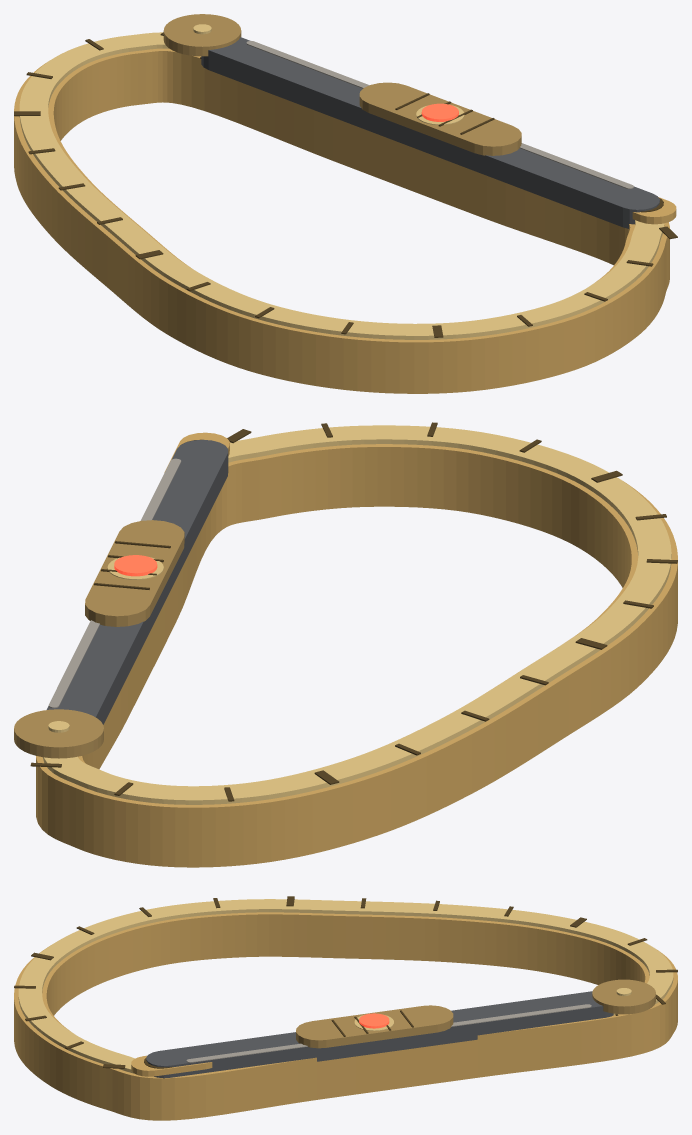
Rendered from safety_first.glb.
3 renders of one model, top to bottom at view 1: azimuth 30°, elevation 25°; view 2: azimuth 150°, elevation 25°; view 3: azimuth 270°, elevation 25°, orthographic. The views are drawn at different scales.
Parts seen in each view (by area): view 1: SF_Body, SF_Ridge, SF_Gate, SF_Sleeve, SF_Hinge, SF_Ticks, SF_GateEdge, SF_NoseBlock, SF_LockDot; view 2: SF_Body, SF_Ridge, SF_Gate, SF_Sleeve, SF_Hinge, SF_Ticks, SF_GateEdge, SF_LockDot; view 3: SF_Body, SF_Ridge, SF_Gate, SF_Sleeve, SF_Hinge, SF_GateEdge, SF_Ticks, SF_NoseBlock, SF_LockDot.
Boxes of the visible parts, x1=… form: SF_Body: x1=14, y1=48, x2=669, y2=393; SF_Ridge: x1=19, y1=32, x2=664, y2=339; SF_Gate: x1=201, y1=37, x2=659, y2=228; SF_Sleeve: x1=359, y1=82, x2=521, y2=155; SF_Hinge: x1=163, y1=14, x2=241, y2=56; SF_Ticks: x1=14, y1=32, x2=677, y2=337; SF_GateEdge: x1=246, y1=41, x2=633, y2=188; SF_NoseBlock: x1=632, y1=197, x2=676, y2=224; SF_LockDot: x1=421, y1=103, x2=458, y2=121; SF_Body: x1=36, y1=444, x2=677, y2=867; SF_Ridge: x1=42, y1=425, x2=671, y2=804; SF_Gate: x1=46, y1=439, x2=228, y2=724; SF_Sleeve: x1=85, y1=520, x2=184, y2=626; SF_Hinge: x1=14, y1=709, x2=103, y2=758; SF_Ticks: x1=30, y1=422, x2=677, y2=801; SF_GateEdge: x1=48, y1=458, x2=181, y2=708; SF_LockDot: x1=114, y1=555, x2=157, y2=576; SF_Body: x1=14, y1=912, x2=677, y2=1120; SF_Ridge: x1=18, y1=899, x2=673, y2=1073; SF_Gate: x1=146, y1=991, x2=613, y2=1078; SF_Sleeve: x1=296, y1=1005, x2=453, y2=1048; SF_Hinge: x1=592, y1=979, x2=655, y2=1014; SF_GateEdge: x1=186, y1=1004, x2=591, y2=1062; SF_Ticks: x1=14, y1=896, x2=677, y2=1068; SF_NoseBlock: x1=131, y1=1055, x2=212, y2=1076; SF_LockDot: x1=359, y1=1013, x2=389, y2=1028.
Bounding box in the file's own units: 0.0253 × 0.00425 × 0.0394.
